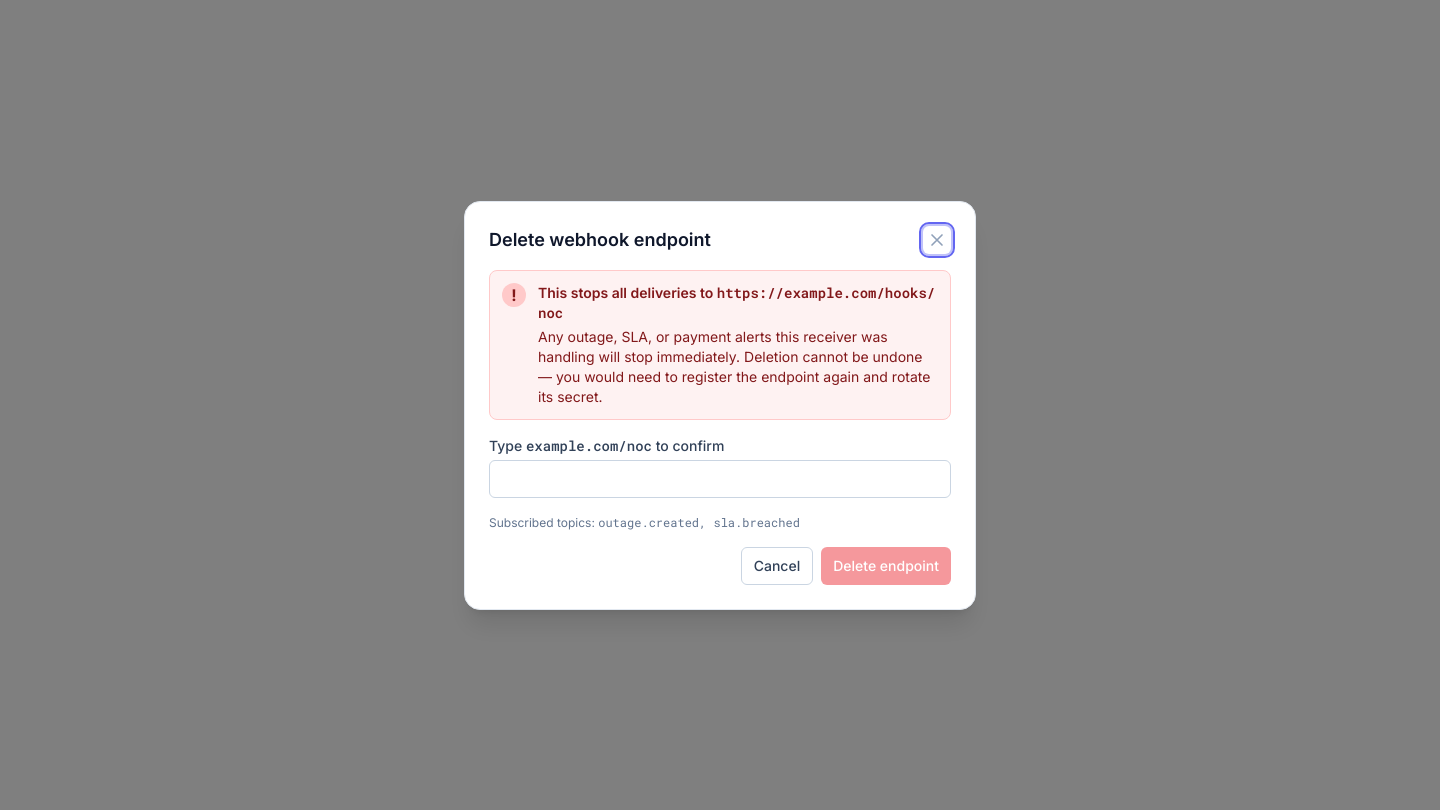
Scenario: DeleteWebhookModal › keeps the modal open and reports a deletion failure
This screenshot has width=1440, height=810.
Type "example.com/noc" into the field with test id "delete-confirm-input". click: (720, 478)
box: [489,460,951,498]
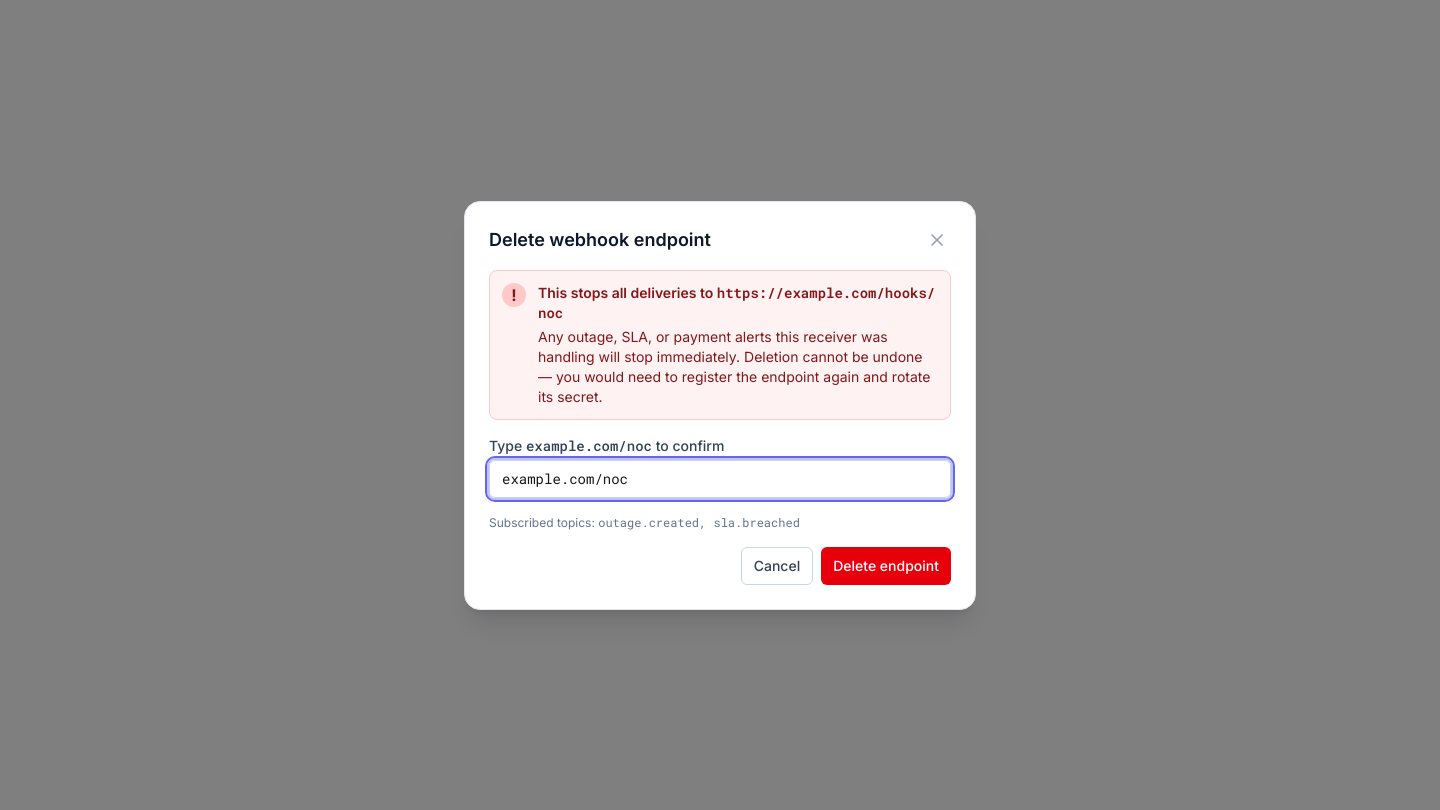
Click the button with test id "delete-confirm-button". click: (886, 566)
box: [821,546,951,584]
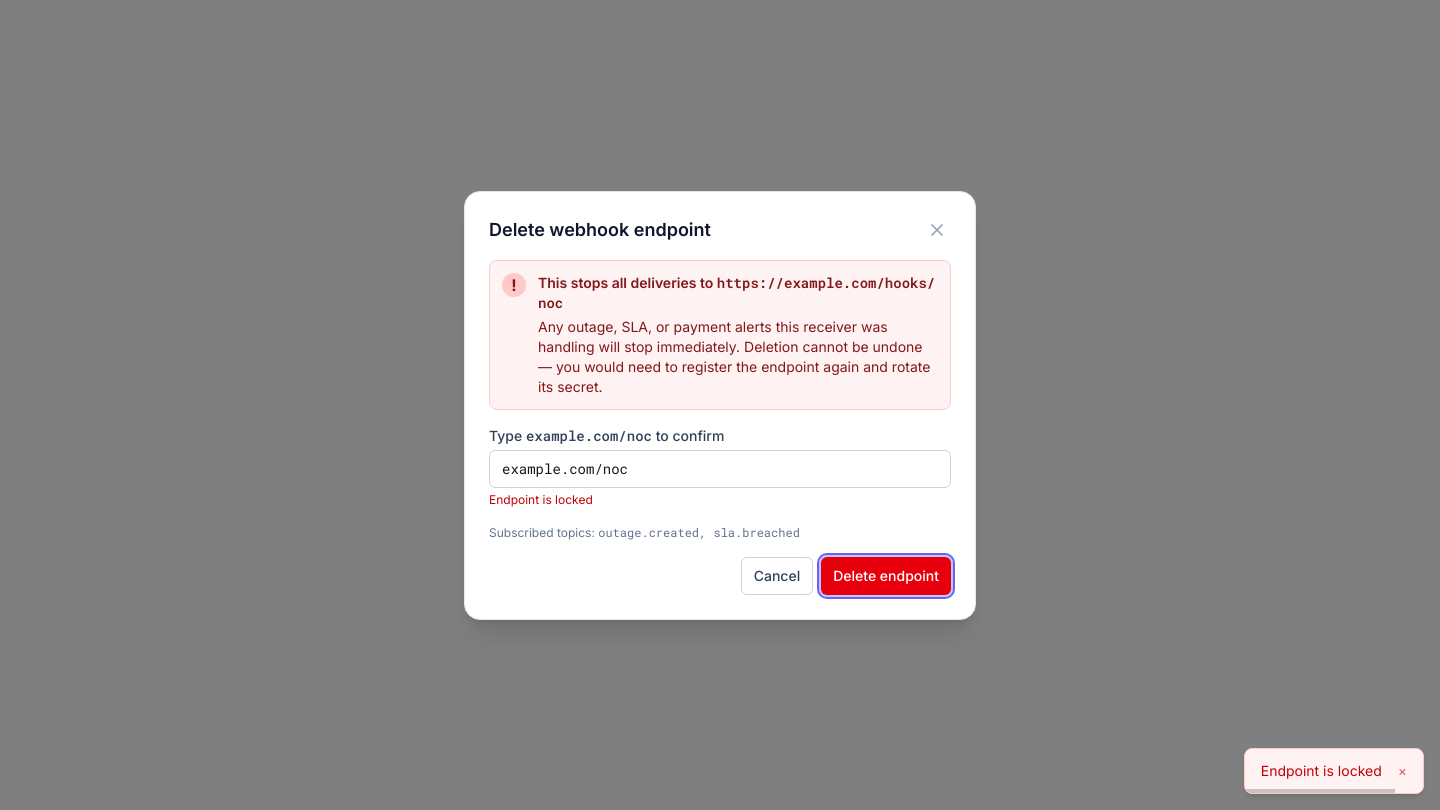
Check: the message with test id "delete-confirm-error" reads "Endpoint is locked", box [489,492,593,506]
